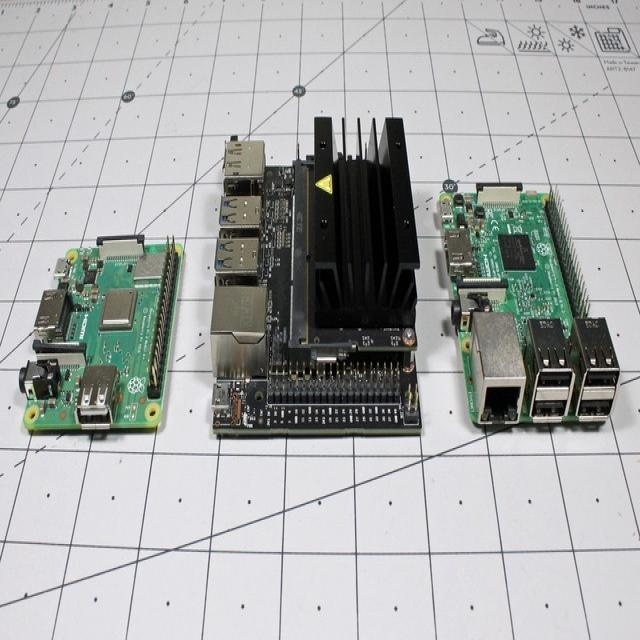Jetson Nano: (211, 118, 420, 433)
